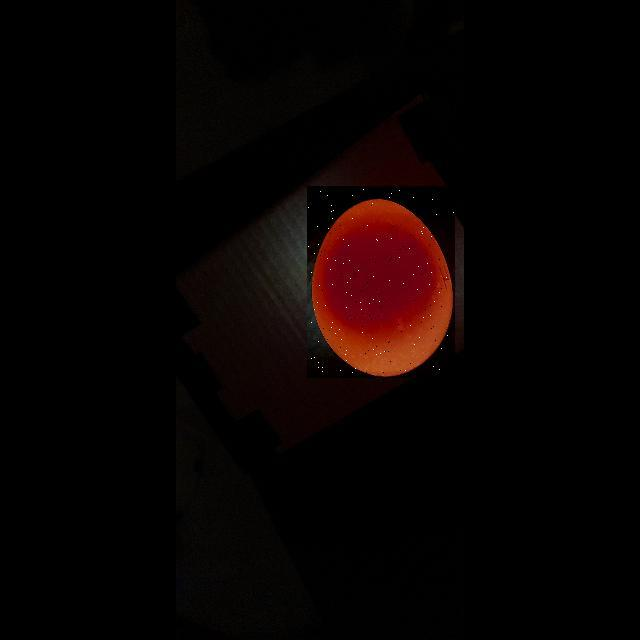Fertile: (307, 186, 455, 378)
